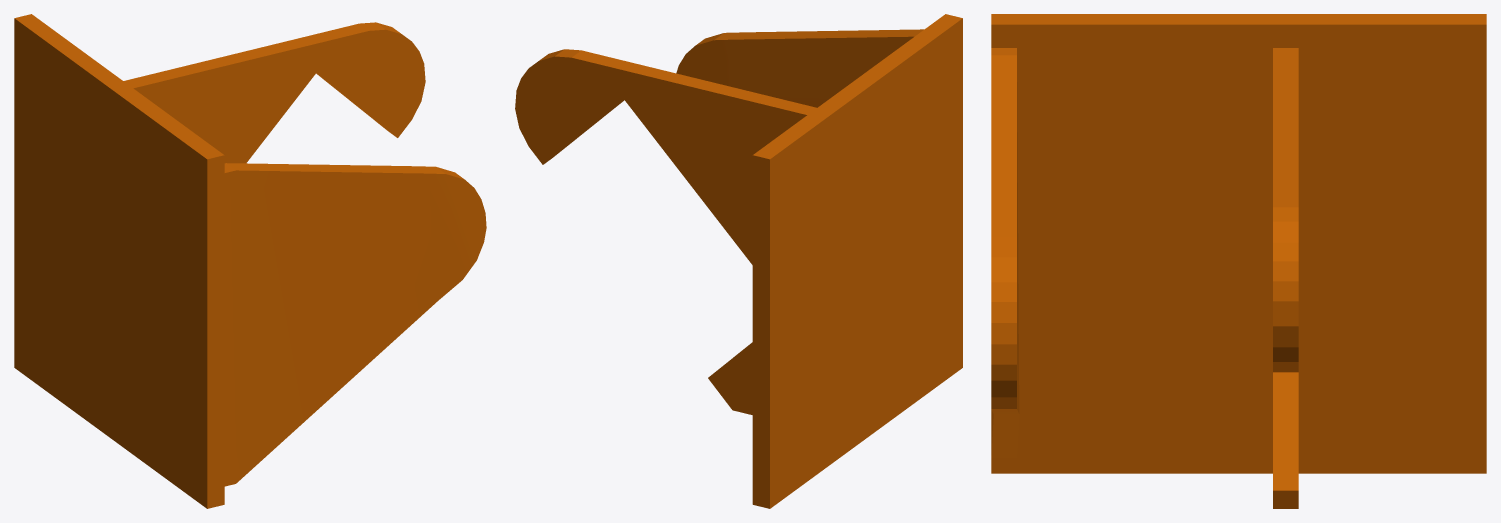
Rendered from bottom.obj.
3 renders of one model, left to right at view 1: azimuth 30°, elevation 25°; view 2: azimuth 150°, elevation 25°; view 3: azimuth 270°, elevation 25°, orthographic. The views are drawn at different scales.
Visible parts, largest first — view 1: Plane; view 2: Plane; view 3: Plane.
Part boxes in pixels (x1,y1,x2,y2): Plane: (14, 14, 486, 508); Plane: (515, 14, 962, 508); Plane: (991, 14, 1486, 508).
Bounding box in the file's own units: 0.057 × 0.058 × 0.058.
